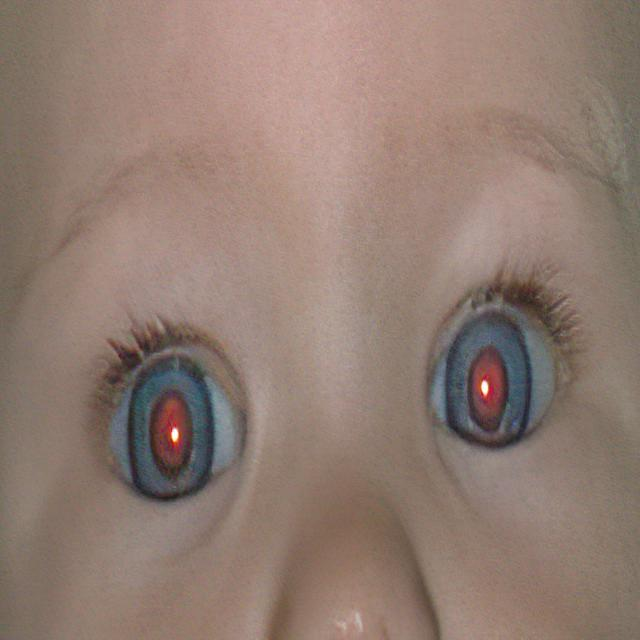reflexo-normal: (408, 305, 578, 464), (93, 346, 261, 506)
